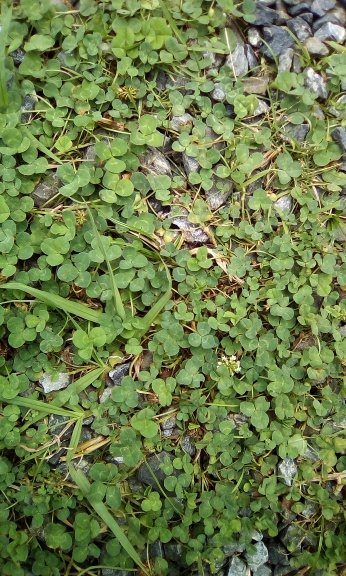4leaf: (154, 322, 193, 357)
